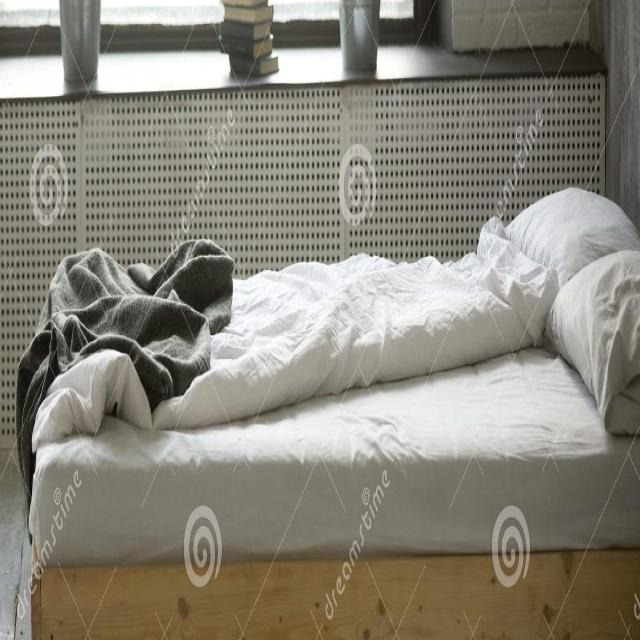bed: (20, 153, 640, 640)
